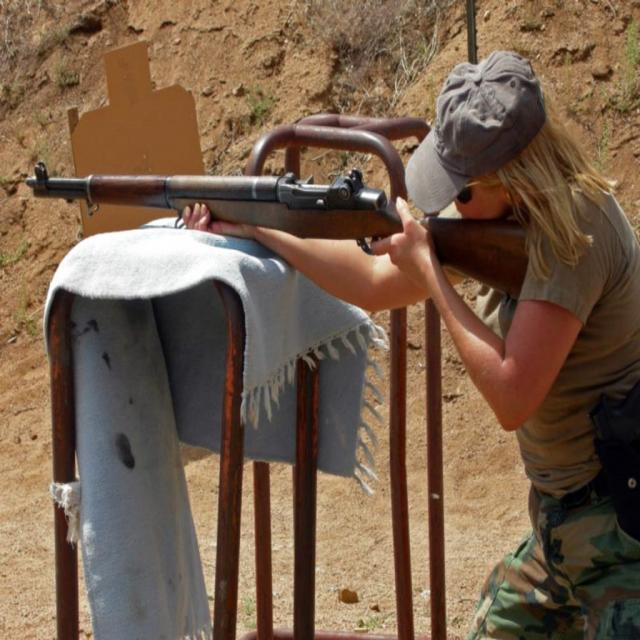weapon: (24, 160, 530, 299)
